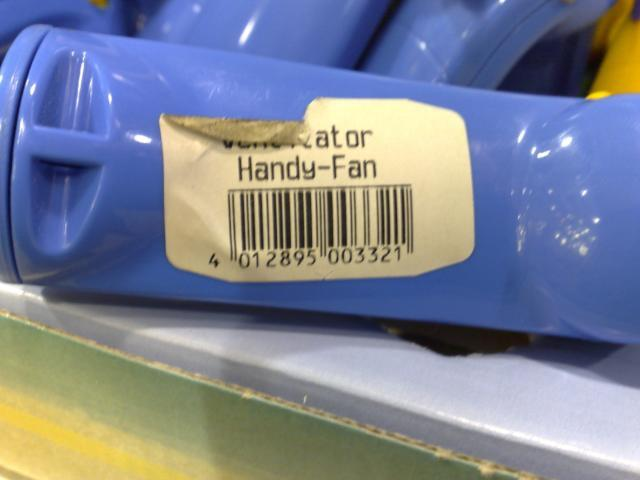Barcode: (197, 183, 422, 278)
